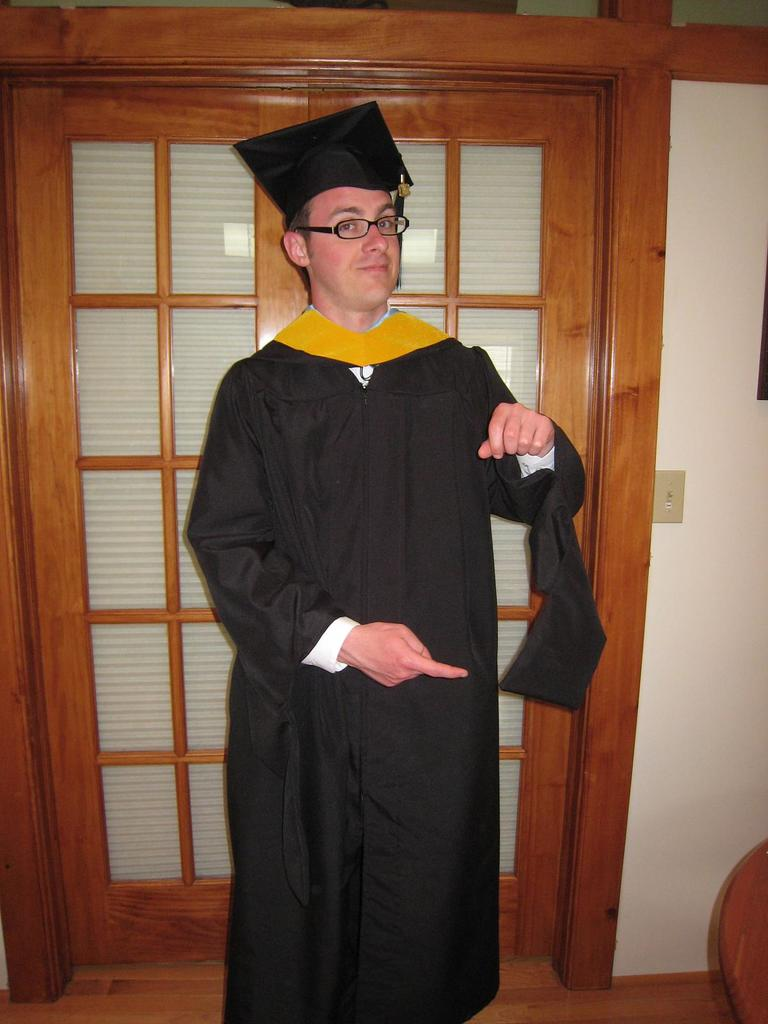Person: (186, 100, 607, 1023)
